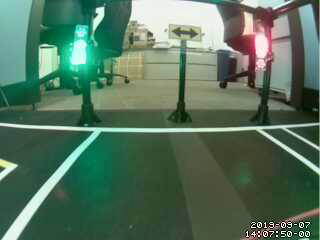Left_Right_sign: (168, 24, 202, 42)
Traffic_light_green: (75, 25, 87, 64)
Traffic_light_red: (255, 33, 267, 69)
